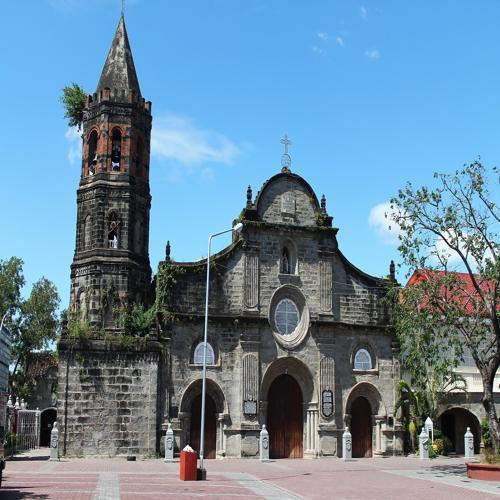Barasoain Church: (54, 4, 415, 464)
